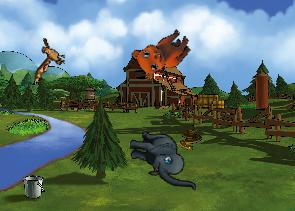bear: (126, 17, 196, 86)
eagle: (28, 36, 67, 85)
elephant: (126, 130, 199, 190)
